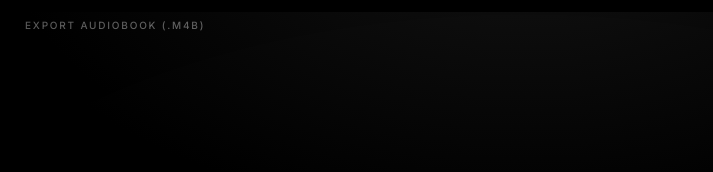
Test: AudiobookExport › starts an export and shows it running
What coordinates should you click on to do the following:
click the button "Export audiobook (.m4b)"
I would click on:
 (115, 26)
Its box is [12, 12, 218, 39].
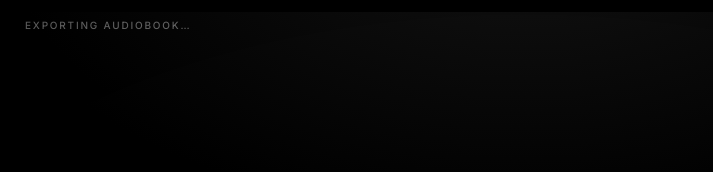
Expected: the button "Exporting audiobook…" is disabled, [12, 12, 204, 39]
